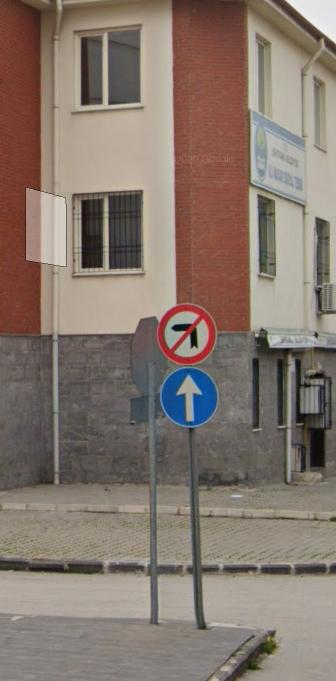forward: (164, 367, 219, 426)
leftturnsareforbidden: (160, 308, 214, 361)
